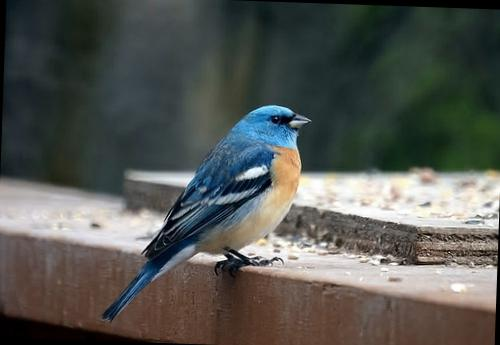bird: (80, 88, 324, 336)
